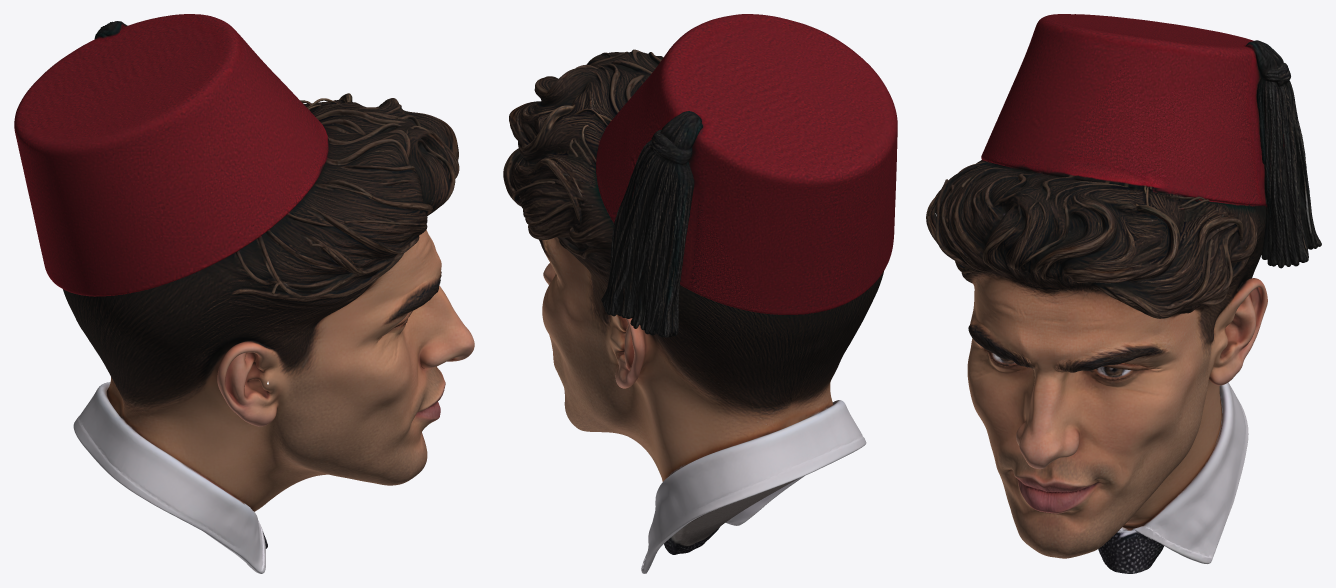
The model's file is egyptian-fez-head.glb.
3 views of the same model, side by side, from view 1: azimuth 30°, elevation 25°; view 2: azimuth 150°, elevation 25°; view 3: azimuth 270°, elevation 25° (orthographic).
Visible parts, largest first — view 1: tripo_node_da25b2d2-1e64-4130-b186-b4bef542c701; view 2: tripo_node_da25b2d2-1e64-4130-b186-b4bef542c701; view 3: tripo_node_da25b2d2-1e64-4130-b186-b4bef542c701.
Boxes of the visible parts, left/top/right/bottom form: tripo_node_da25b2d2-1e64-4130-b186-b4bef542c701: left=14, top=14, right=474, bottom=573; tripo_node_da25b2d2-1e64-4130-b186-b4bef542c701: left=503, top=14, right=897, bottom=573; tripo_node_da25b2d2-1e64-4130-b186-b4bef542c701: left=926, top=14, right=1321, bottom=573.
Size of the model in its own units: 0.1554 by 0.2 by 0.1377.
Materials: 1 (1 with a texture image).
